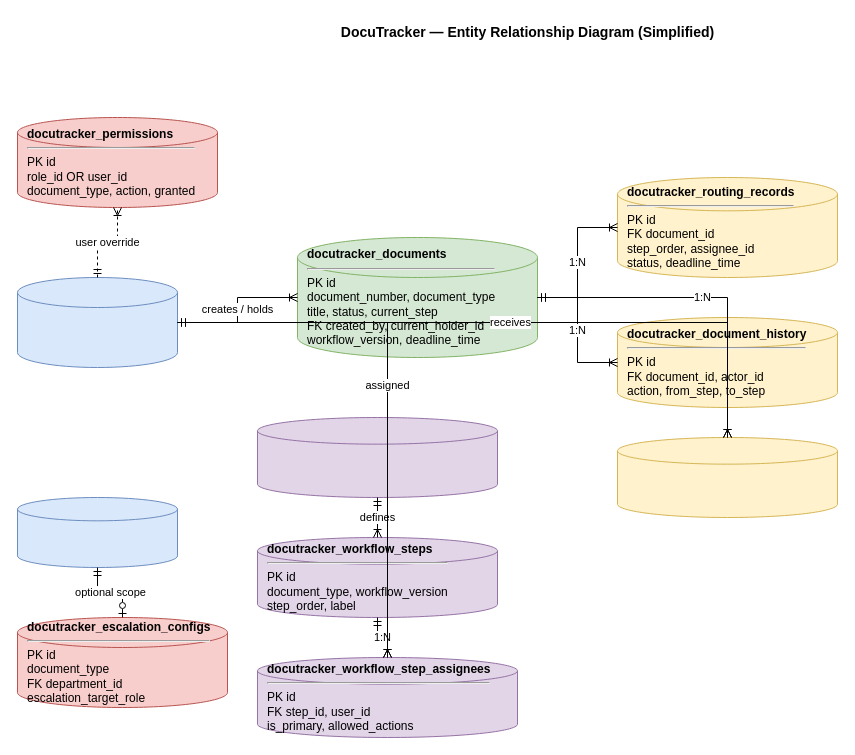
This 855x755 diagram has some shape labels left out. Each missing label, with the centre of its shape:
departments (HRMS) PK id name: the point at 97,532
docutracker_notifications PK id FK document_id, user_id type, read: the point at 727,477
docutracker_routing_config_versions PK id document_type, version steps (JSONB): the point at 377,457
users (HRMS) PK id name, role, department: the point at 97,322
